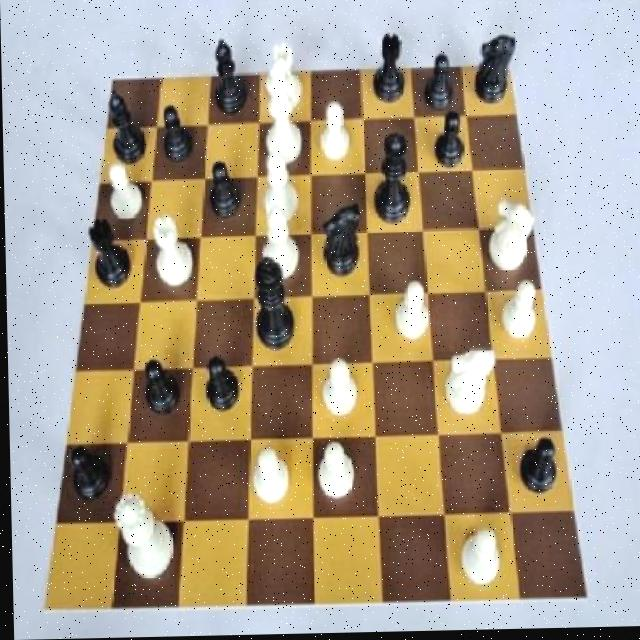bishop: (205, 31, 257, 125), (102, 84, 152, 174)
black-bishop: (252, 254, 299, 362)
black-king: (319, 195, 367, 288), (471, 29, 518, 111)
black-knight: (509, 427, 561, 506), (61, 438, 111, 514), (131, 355, 181, 423), (198, 156, 244, 228), (197, 353, 244, 418), (416, 48, 459, 112), (428, 112, 470, 174), (159, 101, 196, 171)
black-pawn: (368, 130, 416, 237)
black-queen: (85, 216, 138, 292), (364, 27, 410, 114)
black-rook: (258, 146, 308, 226), (256, 207, 304, 289)
white-bishop: (255, 50, 308, 173)
white-king: (440, 336, 499, 427), (482, 194, 541, 280)
white-knight: (452, 520, 500, 601), (314, 355, 364, 429), (100, 156, 152, 225), (310, 99, 355, 175), (386, 279, 431, 352), (312, 437, 356, 510), (496, 281, 542, 350), (245, 445, 290, 511)
white-pawn: (104, 489, 181, 595)
white-queen: (264, 33, 310, 122), (148, 215, 199, 294)
